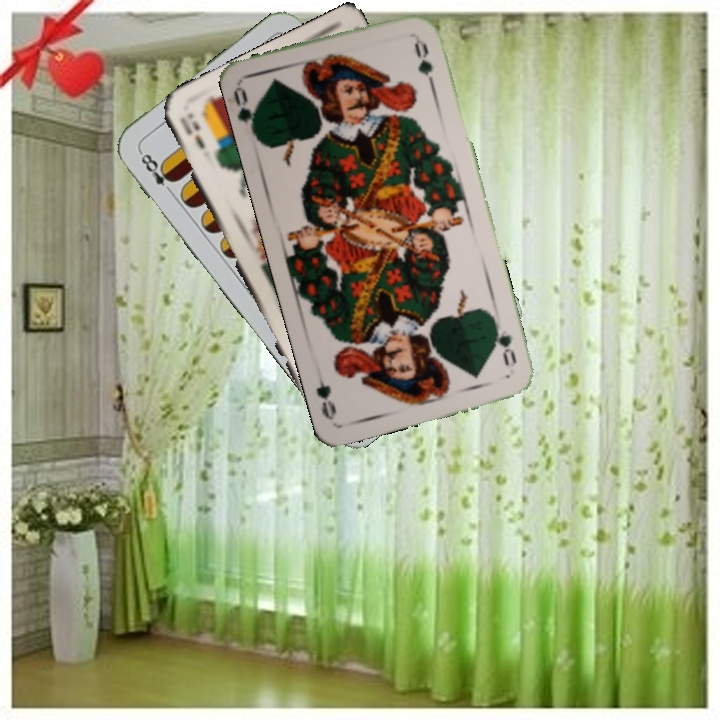E8: (135, 147, 179, 197)
EK: (175, 109, 208, 153)
GO: (229, 84, 261, 141), (489, 315, 520, 368)
